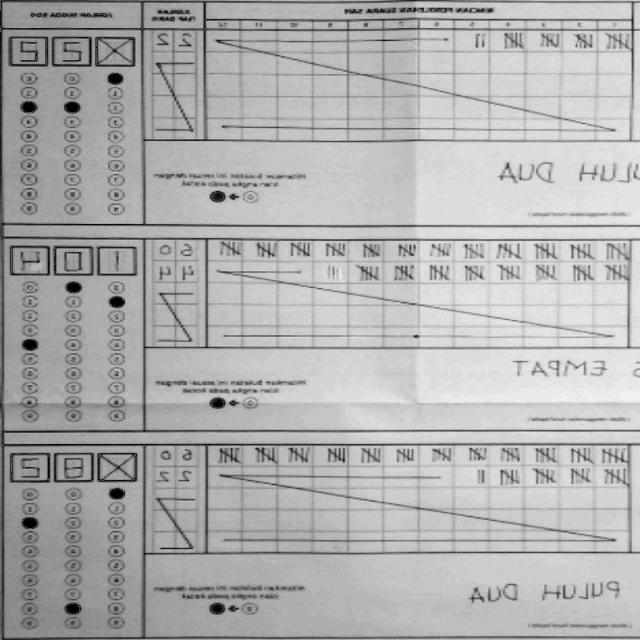Suara: (4, 26, 138, 70), (12, 242, 146, 278), (10, 445, 136, 482)
